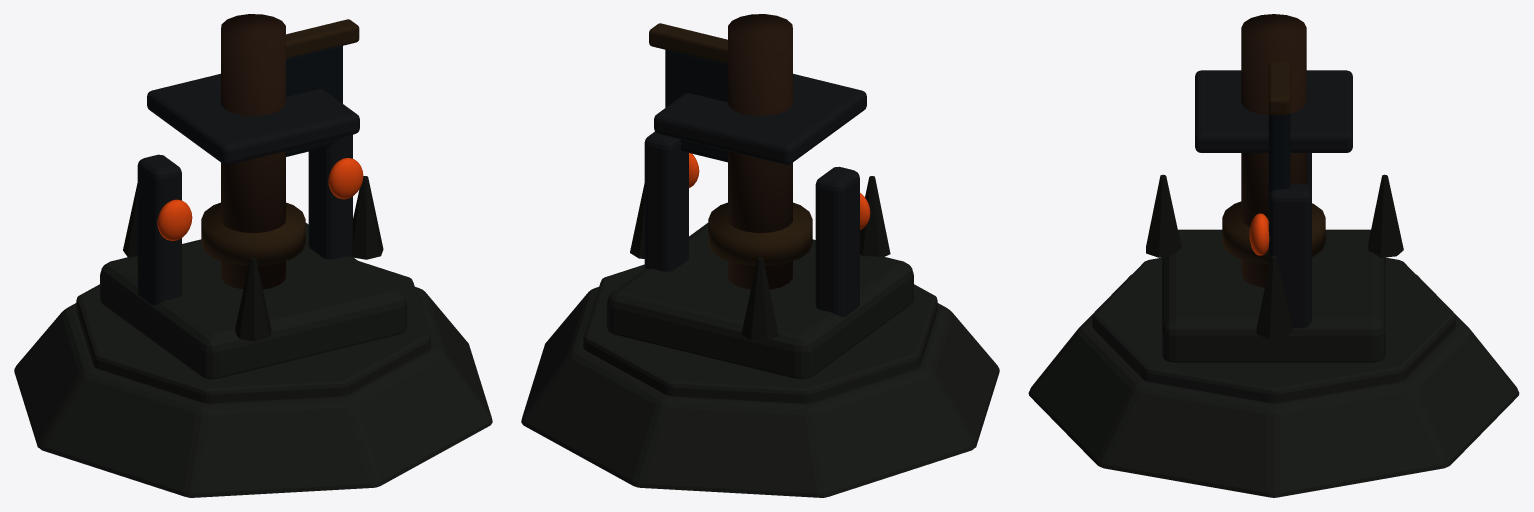
The model's file is TowerAura2.obj.
3 views of the same model, side by side, from view 1: azimuth 30°, elevation 25°; view 2: azimuth 150°, elevation 25°; view 3: azimuth 270°, elevation 25° (orthographic).
Visible parts, largest first — view 1: circular_stone_dais_lower_course, carved_stone_root, circular_stone_dais_upper_course, oak_banner_mast, iron_signal_ring, iron_ritual_pillar, iron_ritual_pillar.001, bronze_mast_collar, dark_command_banner, bone_command_ward.002, bronze_banner_bar, bone_command_ward (+3 smaller); view 2: circular_stone_dais_lower_course, carved_stone_root, circular_stone_dais_upper_course, oak_banner_mast, iron_signal_ring, iron_ritual_pillar, iron_ritual_pillar.001, bronze_mast_collar, dark_command_banner, bronze_banner_bar, bone_command_ward.001, bone_command_ward.002 (+1 smaller); view 3: circular_stone_dais_lower_course, carved_stone_root, circular_stone_dais_upper_course, iron_signal_ring, oak_banner_mast, iron_ritual_pillar.001, bronze_mast_collar, bone_command_ward, bone_command_ward.001, bone_command_ward.002, dark_command_banner, bronze_banner_bar (+1 smaller).
Boxes of the visible parts, box(x1,y1,x2,y2) form: circular_stone_dais_lower_course: box(14, 287, 492, 497); carved_stone_root: box(100, 223, 406, 379); circular_stone_dais_upper_course: box(76, 261, 430, 403); oak_banner_mast: box(221, 14, 285, 289); iron_signal_ring: box(147, 73, 359, 164); iron_ritual_pillar: box(137, 154, 181, 305); iron_ritual_pillar.001: box(308, 134, 352, 259); bronze_mast_collar: box(201, 202, 305, 265); dark_command_banner: box(286, 45, 342, 156); bone_command_ward.002: box(235, 257, 271, 341); bronze_banner_bar: box(286, 19, 359, 58); bone_command_ward: box(351, 176, 383, 259); circular_stone_dais_lower_course: box(521, 287, 999, 497); carved_stone_root: box(607, 223, 913, 379); circular_stone_dais_upper_course: box(583, 264, 937, 403); oak_banner_mast: box(728, 14, 792, 289); iron_signal_ring: box(654, 73, 866, 164); iron_ritual_pillar: box(815, 166, 859, 317); iron_ritual_pillar.001: box(644, 131, 688, 271); bronze_mast_collar: box(708, 202, 812, 265); dark_command_banner: box(665, 49, 727, 162); bronze_banner_bar: box(649, 23, 727, 63); bone_command_ward.001: box(741, 257, 778, 340); bone_command_ward.002: box(860, 176, 890, 256); circular_stone_dais_lower_course: box(1028, 274, 1519, 497); carved_stone_root: box(1162, 229, 1385, 362); circular_stone_dais_upper_course: box(1092, 257, 1455, 403); iron_signal_ring: box(1195, 70, 1352, 152); oak_banner_mast: box(1241, 14, 1306, 287); iron_ritual_pillar.001: box(1268, 183, 1311, 328); bronze_mast_collar: box(1222, 201, 1325, 263); bone_command_ward: box(1256, 256, 1292, 338); bone_command_ward.001: box(1368, 174, 1403, 257); bone_command_ward.002: box(1146, 174, 1181, 257); dark_command_banner: box(1268, 112, 1290, 193); bronze_banner_bar: box(1268, 61, 1290, 115).
Size of the model in its own units: 1.8 by 1.49 by 1.8.
